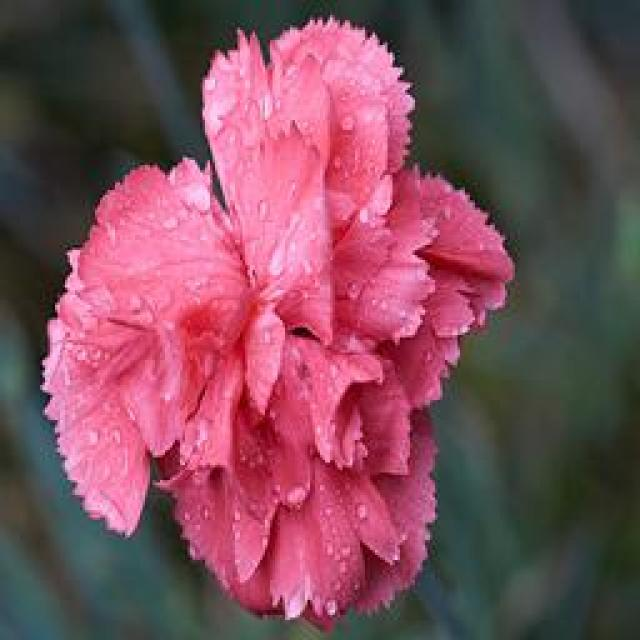carnation: (15, 6, 506, 634)
